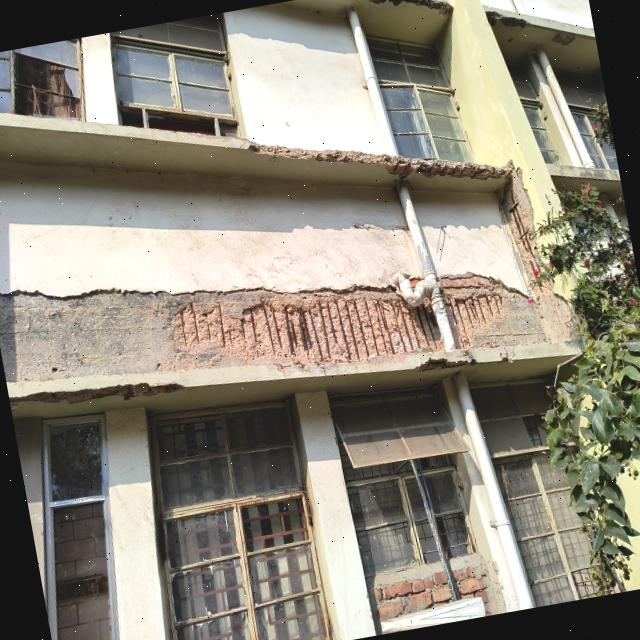peeling: (486, 11, 528, 27), (551, 31, 575, 45), (498, 346, 515, 362)
spalling: (247, 140, 575, 341), (0, 287, 440, 382), (363, 552, 502, 616), (440, 274, 547, 347), (9, 382, 183, 410), (360, 0, 453, 17), (416, 349, 477, 372)
stain_mould: (146, 391, 336, 640), (469, 373, 565, 456), (0, 36, 88, 119)
